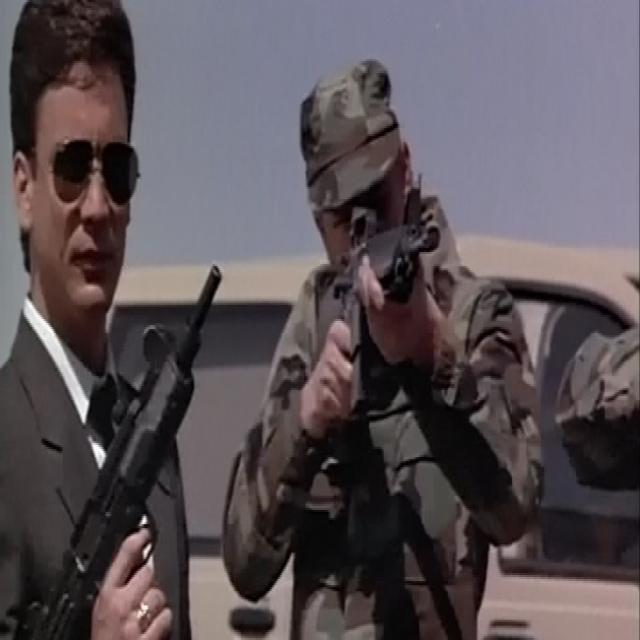rifle: (32, 255, 226, 640)
